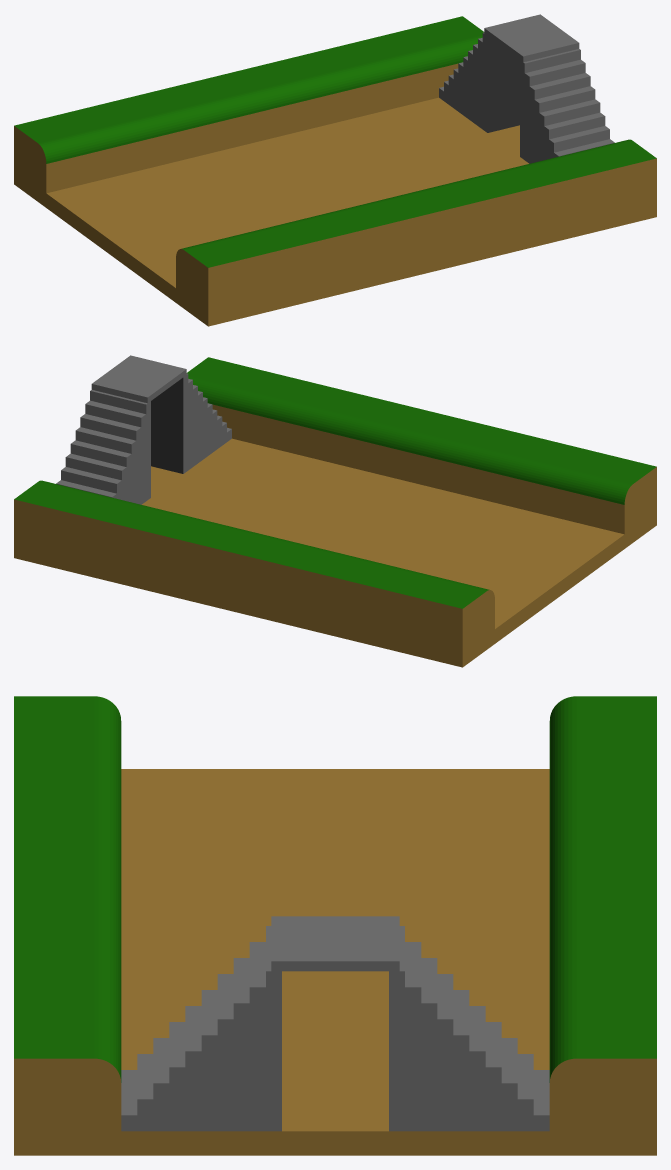
The model's file is Forest Trail+Gate(T).fbx.
3 renders of one model, top to bottom at view 1: azimuth 30°, elevation 25°; view 2: azimuth 150°, elevation 25°; view 3: azimuth 270°, elevation 25°, orthographic. The views are drawn at different scales.
Parts seen in each view (by area): view 1: Forest Trail End, Gate; view 2: Forest Trail End, Gate; view 3: Forest Trail End, Gate.
Boxes of the visible parts, box(x1,y1,x2,y2) form: Forest Trail End: box(14, 16, 656, 326); Gate: box(439, 14, 614, 163); Forest Trail End: box(14, 357, 656, 667); Gate: box(56, 355, 231, 504); Forest Trail End: box(14, 696, 656, 1155); Gate: box(121, 916, 549, 1131).
Bounding box in the file's own units: 1600 × 400 × 1200.
